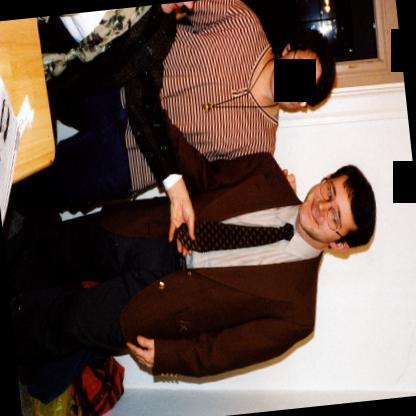backpack: (74, 356, 123, 416)
